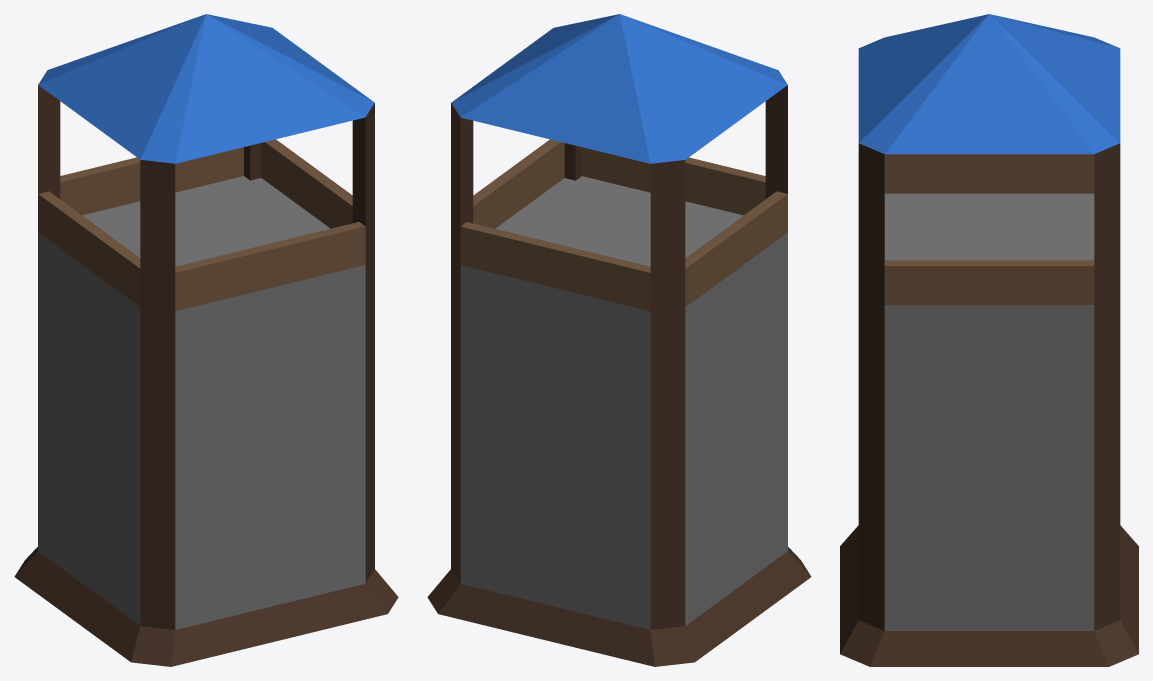
File: Tower.fbx
The picture shows the model from 3 angles, left to right: view 1: azimuth 30°, elevation 25°; view 2: azimuth 150°, elevation 25°; view 3: azimuth 270°, elevation 25°; orthographic projection. The views are drawn at different scales.
Visible parts, largest first — view 1: Base, Roof; view 2: Base, Roof; view 3: Base, Roof.
Part boxes in pixels (left/top/right/bottom): Base: left=14, top=85, right=398, bottom=666; Roof: left=38, top=14, right=374, bottom=163; Base: left=427, top=85, right=811, bottom=666; Roof: left=451, top=14, right=787, bottom=163; Base: left=840, top=143, right=1138, bottom=666; Roof: left=858, top=14, right=1120, bottom=154.
Bounding box in the file's own units: 93.02 × 201 × 98.35.
